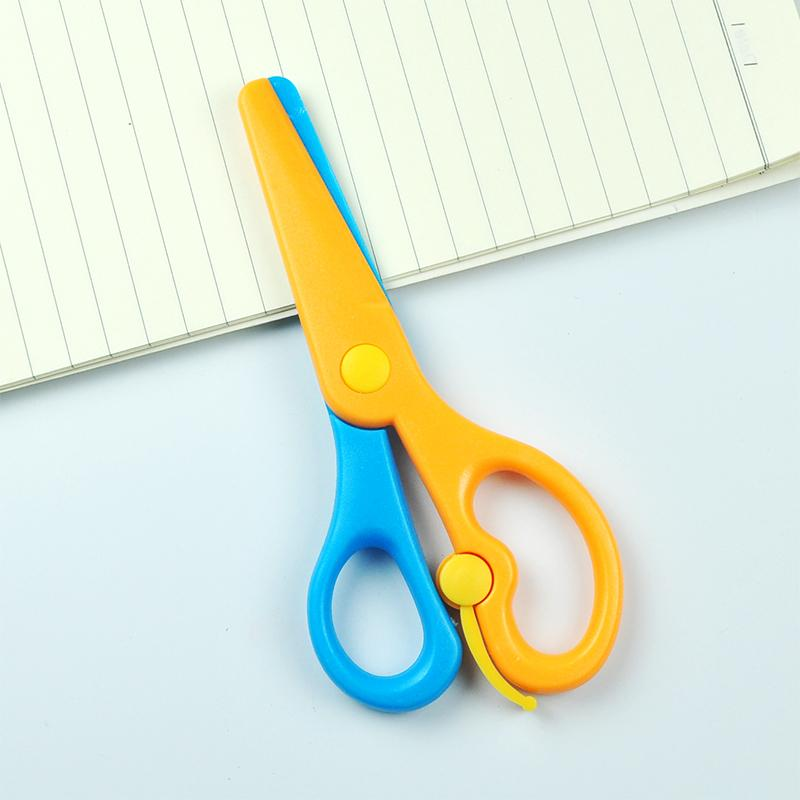scissor: (192, 66, 642, 719)
